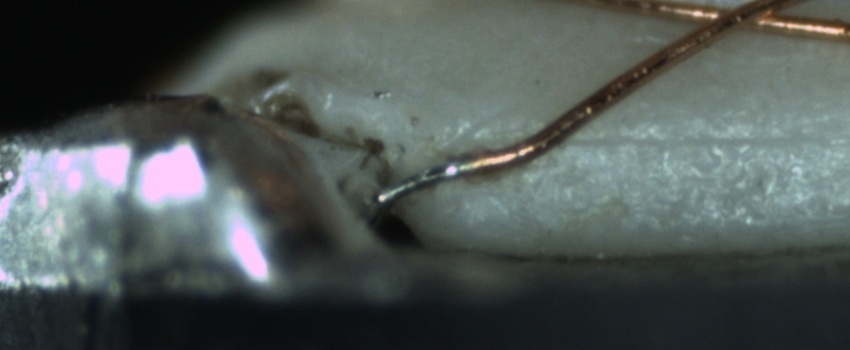CL: (699, 1, 827, 37)
DL: (556, 109, 849, 171)
TS: (375, 158, 474, 205)
TTCW: (372, 151, 490, 205)
